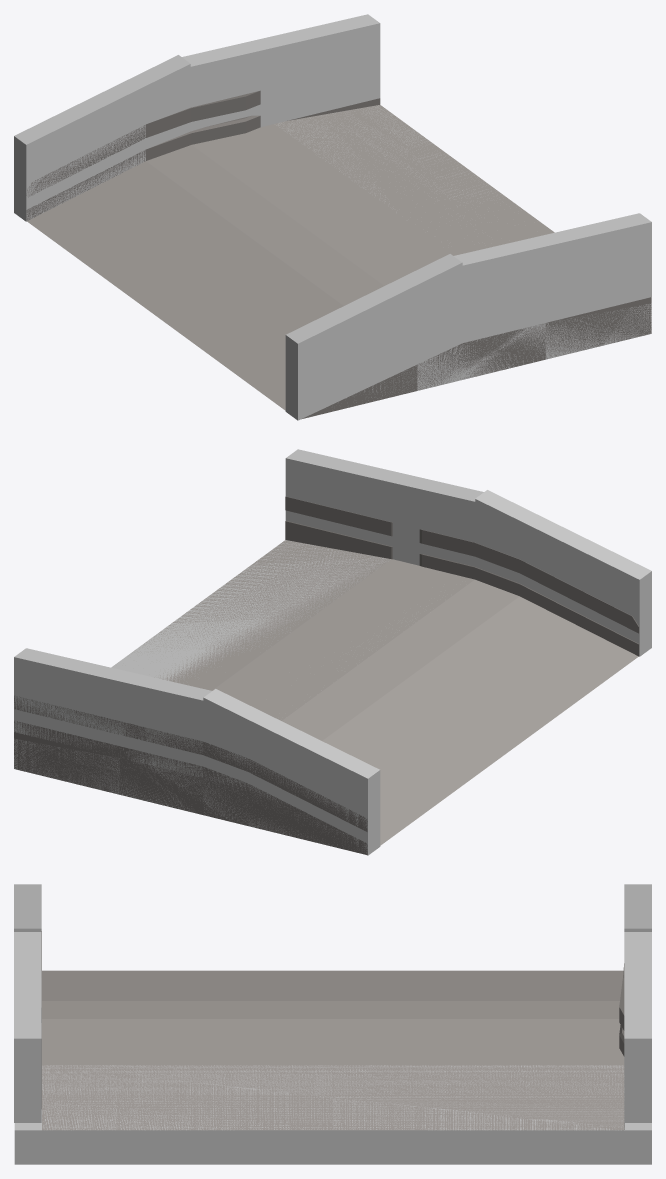
Rendered from SM_Ramp.fbx.
The picture shows the model from 3 angles, top to bottom: view 1: azimuth 30°, elevation 25°; view 2: azimuth 150°, elevation 25°; view 3: azimuth 270°, elevation 25°; orthographic projection. The views are drawn at different scales.
Visible parts, largest first — view 1: SM_Ramp, SM_Ramp_ConvexHulls; view 2: SM_Ramp, SM_Ramp_ConvexHulls; view 3: SM_Ramp, SM_Ramp_ConvexHulls.
Boxes of the visible parts, left/top/right/bottom form: SM_Ramp: left=26, top=90, right=651, bottom=419; SM_Ramp_ConvexHulls: left=14, top=14, right=651, bottom=420; SM_Ramp: left=14, top=496, right=639, bottom=855; SM_Ramp_ConvexHulls: left=14, top=449, right=651, bottom=855; SM_Ramp: left=41, top=931, right=624, bottom=1130; SM_Ramp_ConvexHulls: left=14, top=884, right=651, bottom=1164.
Size of the model in its own units: 1002 by 1391 by 319.
2 materials, 1 textured.
